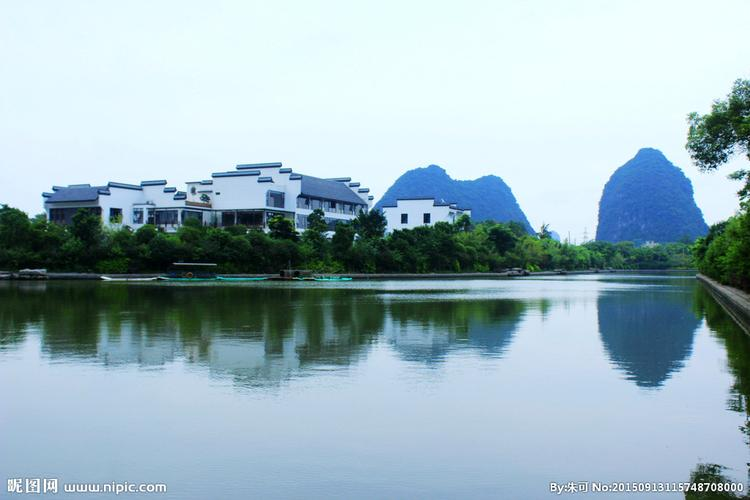mountain: (601, 138, 706, 243)
sea_river: (54, 303, 687, 467)
